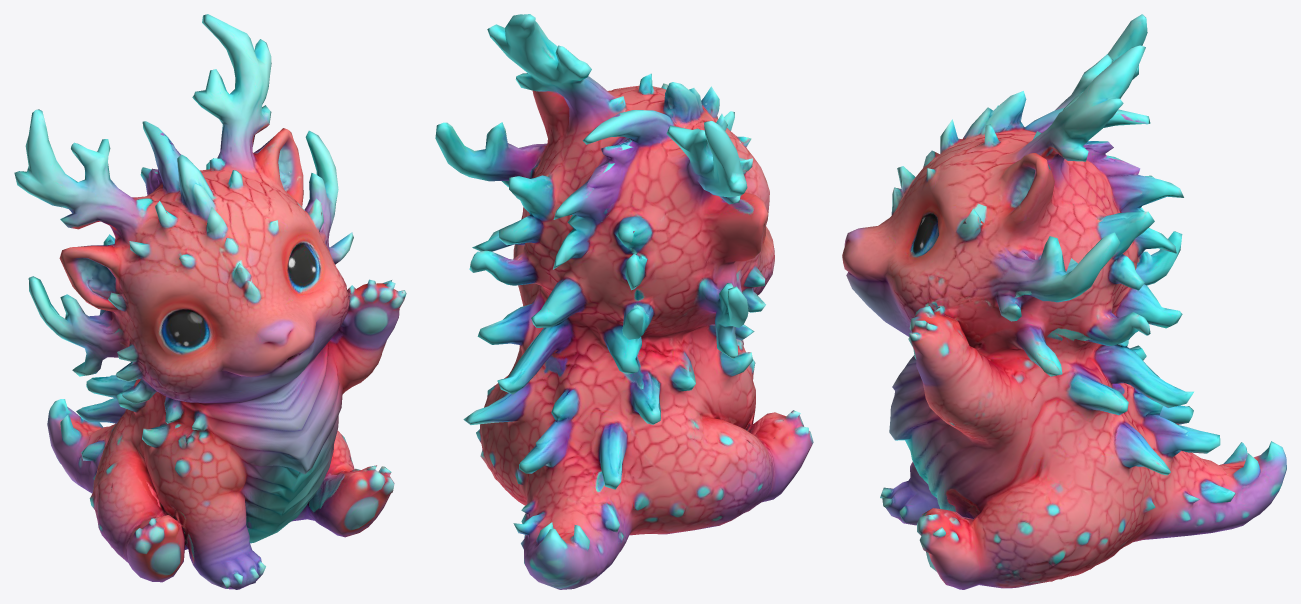
File: alien_chibi_pink.glb
3 renders of one model, left to right at view 1: azimuth 30°, elevation 25°; view 2: azimuth 150°, elevation 25°; view 3: azimuth 270°, elevation 25°, orthographic. The views are drawn at different scales.
Parts seen in each view (by area): view 1: Mesh1.0; view 2: Mesh1.0; view 3: Mesh1.0.
Boxes of the visible parts, box(x1,y1,x2,y2) form: Mesh1.0: box(14, 14, 406, 589); Mesh1.0: box(435, 14, 813, 589); Mesh1.0: box(842, 14, 1286, 589).
Bounding box in the file's own units: 1.26 × 1.91 × 1.51.
Materials: 1 (1 with a texture image).
